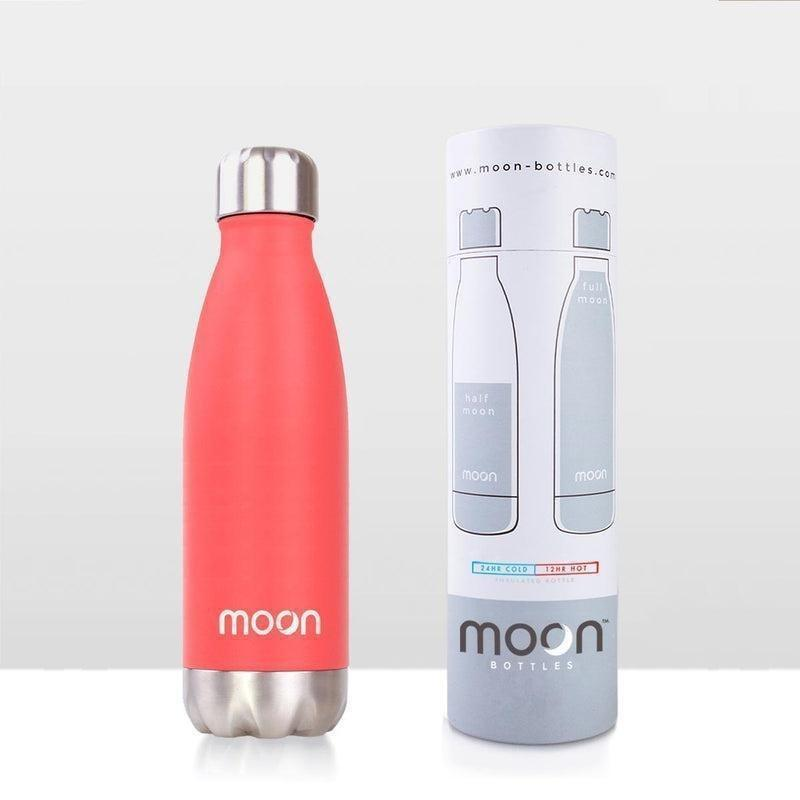gym bottle: (175, 141, 357, 741)
